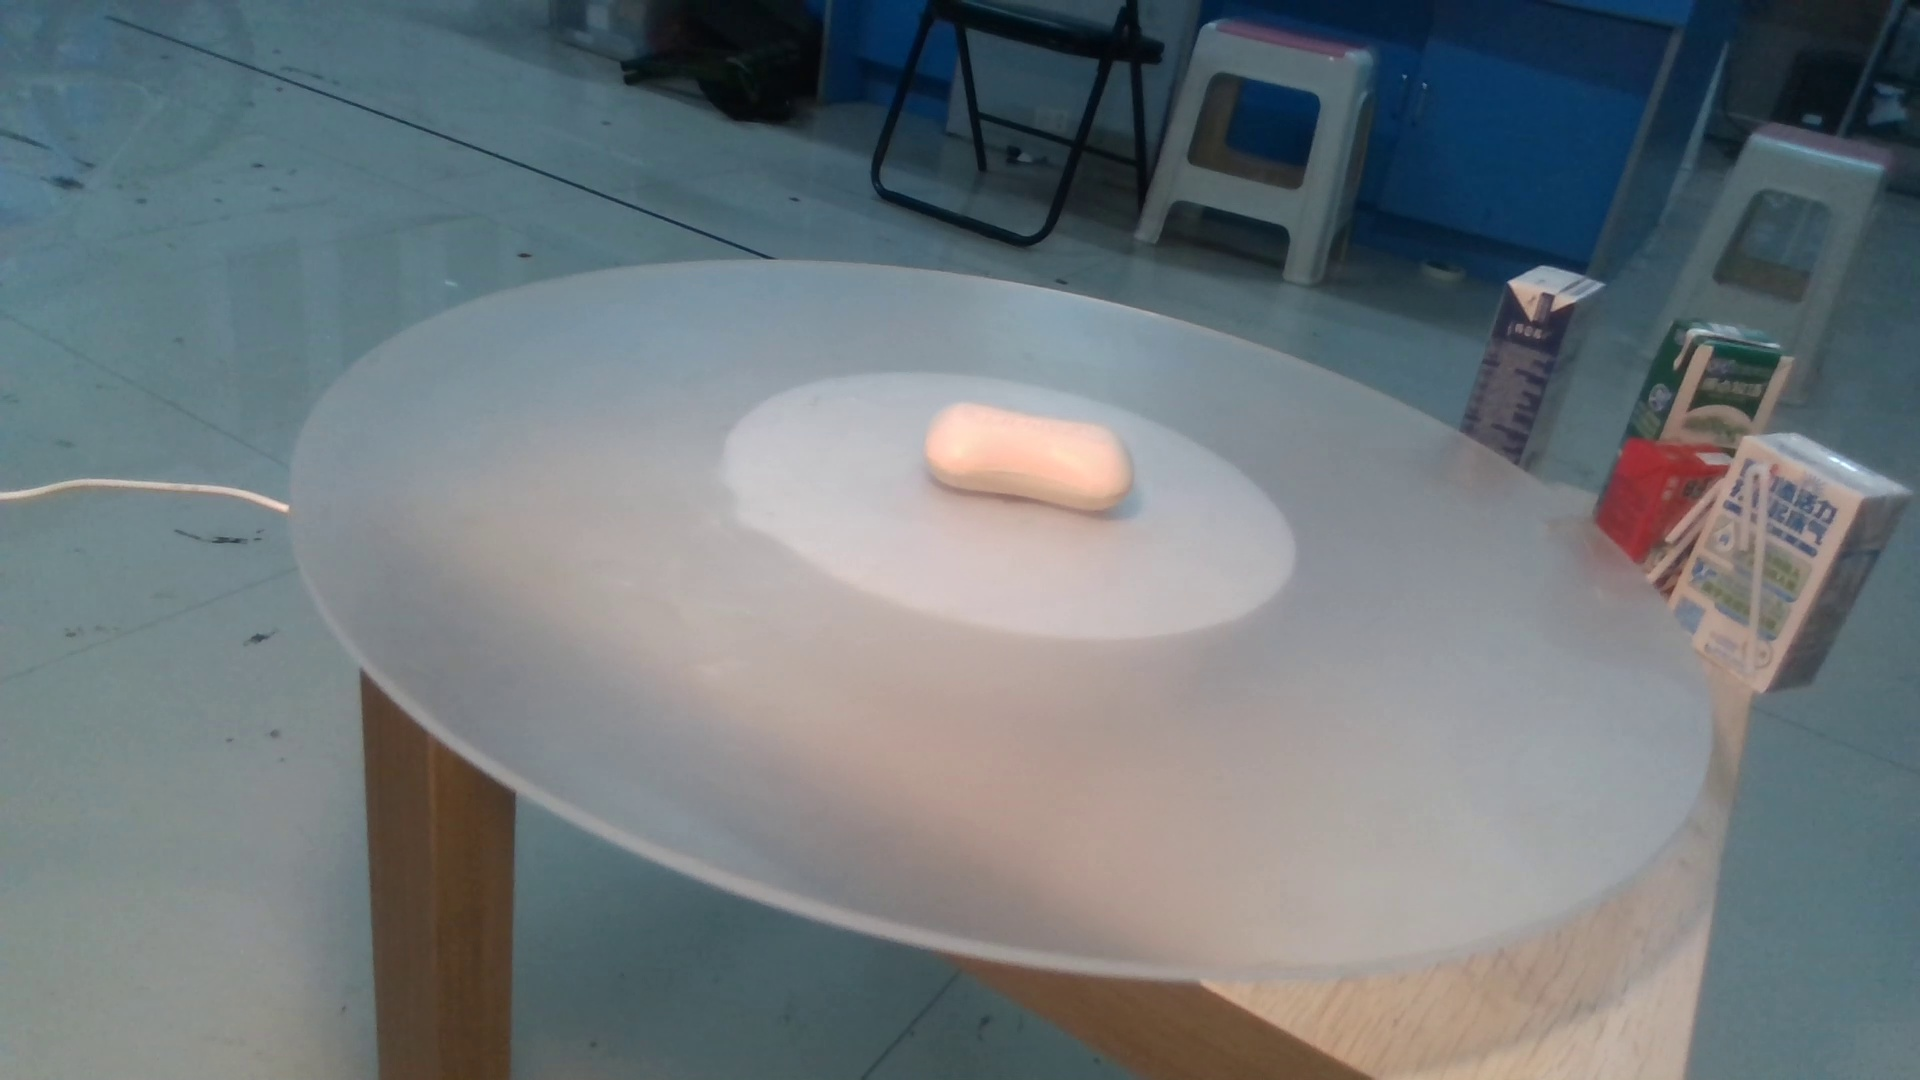CA003_1: (906, 382, 1166, 549)
